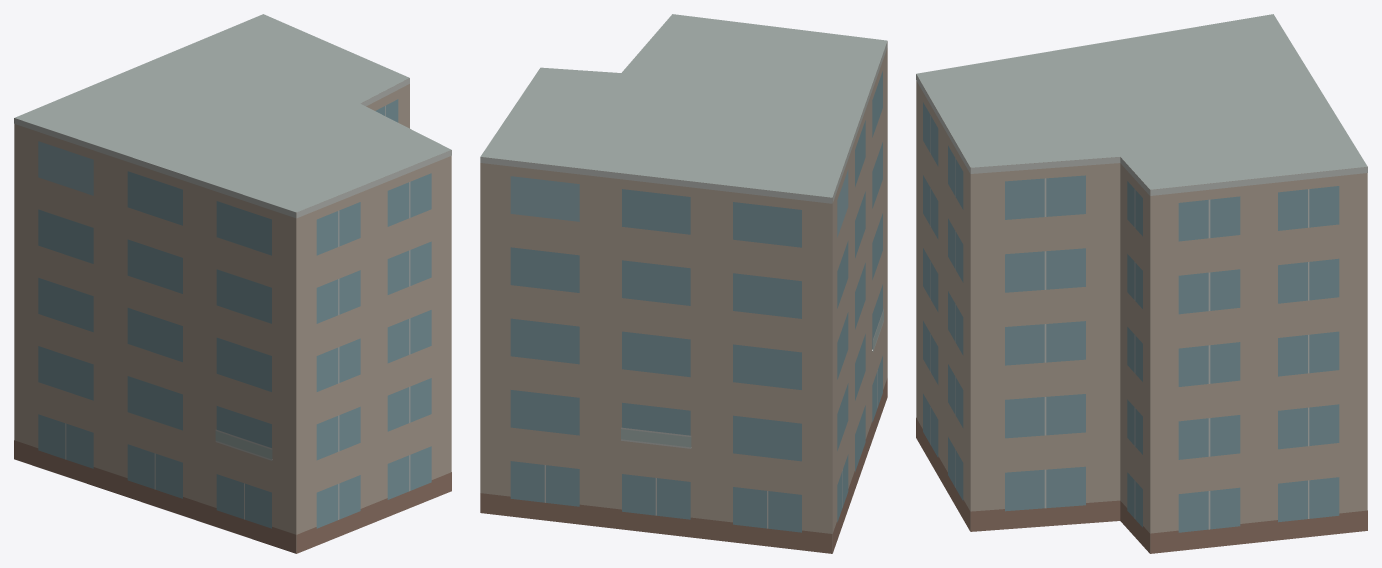
The model's file is survey-upis-33021640.glb.
3 renders of one model, left to right at view 1: azimuth 30°, elevation 25°; view 2: azimuth 150°, elevation 25°; view 3: azimuth 270°, elevation 25°, orthographic. The views are drawn at different scales.
Parts seen in each view (by area): view 1: survey-upis-33021640.tmp; view 2: survey-upis-33021640.tmp; view 3: survey-upis-33021640.tmp.
Boxes of the visible parts, bbox=[...] form: survey-upis-33021640.tmp: bbox=[14, 14, 451, 553]; survey-upis-33021640.tmp: bbox=[480, 14, 887, 553]; survey-upis-33021640.tmp: bbox=[916, 14, 1367, 553].
Bounding box in the file's own units: 14.72 × 14.2 × 15.98.
